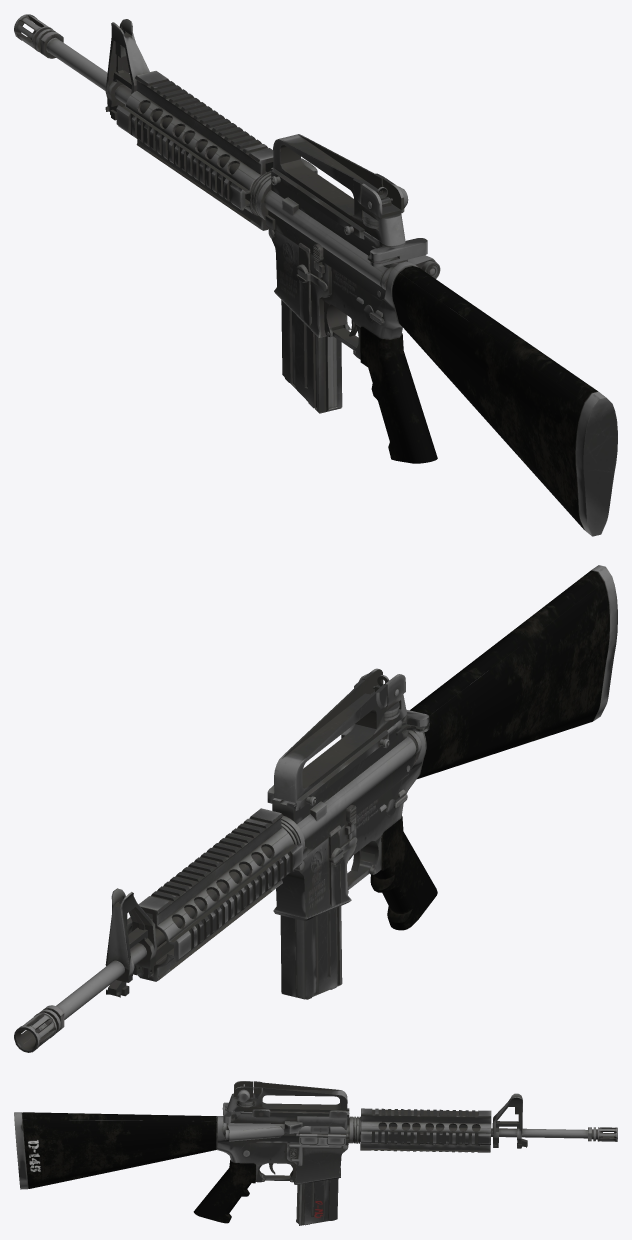
The picture shows the model from 3 angles, top to bottom: view 1: azimuth 30°, elevation 25°; view 2: azimuth 150°, elevation 25°; view 3: azimuth 270°, elevation 25°; orthographic projection. The views are drawn at different scales.
Parts seen in each view (by area): view 1: BODY, RAIL, REAR SIGHT, PISTOL GRIP, MAGAZINE, BARREL, FRONT SIGHT, CHANRIGN HANDLE; view 2: BODY, RAIL, REAR SIGHT, MAGAZINE, PISTOL GRIP, BARREL, FRONT SIGHT; view 3: BODY, RAIL, REAR SIGHT, PISTOL GRIP, MAGAZINE, BARREL, FRONT SIGHT, DUST COVER, BOLT CARRIER.
Boxes of the visible parts, box(x1,y1,x2,y2) form: BODY: box(250, 167, 617, 536); RAIL: box(116, 71, 273, 230); REAR SIGHT: box(271, 134, 408, 246); PISTOL GRIP: box(360, 326, 437, 463); MAGAZINE: box(281, 300, 342, 413); BARREL: box(14, 14, 239, 174); FRONT SIGHT: box(105, 19, 149, 120); CHANRIGN HANDLE: box(367, 238, 427, 266); BODY: box(271, 565, 617, 921); RAIL: box(126, 808, 302, 981); REAR SIGHT: box(267, 668, 406, 810); MAGAZINE: box(280, 906, 342, 999); PISTOL GRIP: box(370, 816, 437, 930); BARREL: box(14, 846, 272, 1052); FRONT SIGHT: box(105, 888, 157, 997); BODY: box(14, 1107, 360, 1189); RAIL: box(360, 1108, 491, 1152); REAR SIGHT: box(227, 1081, 347, 1118); PISTOL GRIP: box(193, 1159, 255, 1223); MAGAZINE: box(296, 1178, 338, 1225); BARREL: box(360, 1126, 617, 1141); FRONT SIGHT: box(492, 1093, 527, 1148); DUST COVER: box(299, 1134, 345, 1146); BOLT CARRIER: box(299, 1126, 345, 1133).
Size of the model in its own units: 0.076 by 0.2528 by 0.9967.
Materials: 1 (1 with a texture image).
